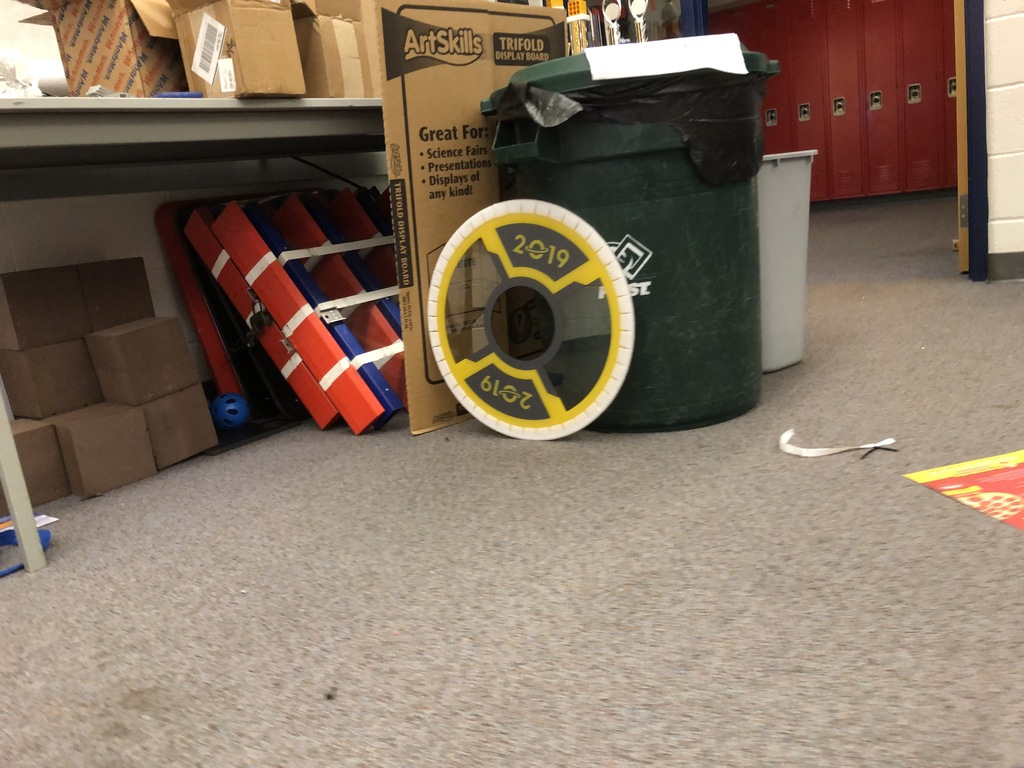hatch_panel: (416, 187, 648, 448)
